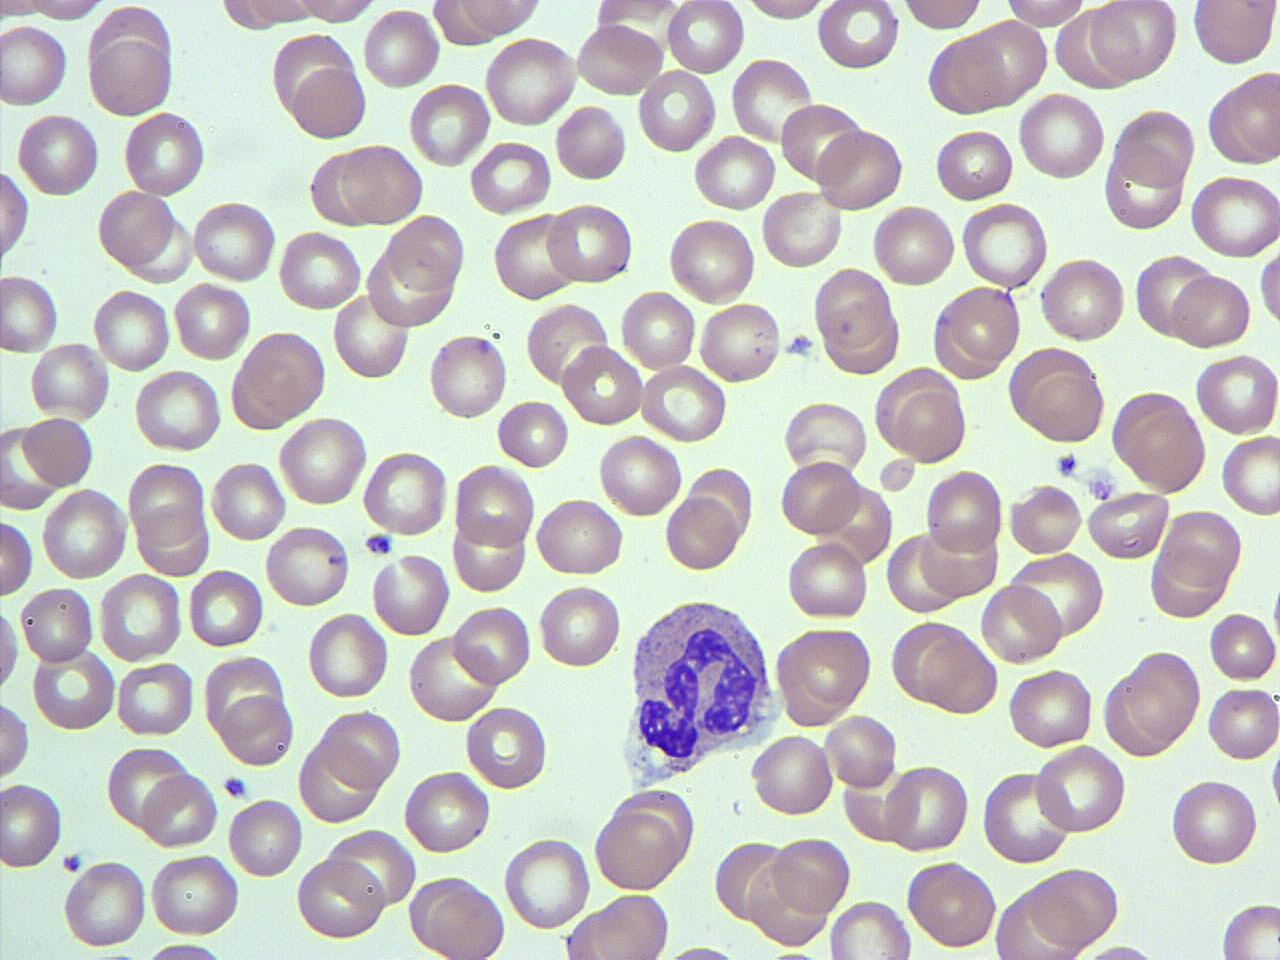Platelets: (783, 331, 818, 358), (363, 530, 395, 558), (1055, 450, 1079, 478), (60, 850, 83, 876)
RBC: (770, 624, 876, 728), (236, 325, 331, 426), (481, 34, 580, 130), (928, 283, 1024, 380), (902, 857, 1001, 951), (276, 412, 371, 509), (1010, 548, 1108, 642), (980, 766, 1072, 866), (1167, 773, 1261, 870), (1033, 742, 1129, 836), (503, 834, 594, 932), (39, 484, 130, 582), (1015, 88, 1107, 183), (293, 853, 388, 944), (406, 632, 498, 724), (960, 198, 1051, 291), (147, 850, 241, 940), (882, 760, 971, 855), (590, 806, 686, 894), (401, 766, 492, 858), (1038, 254, 1130, 345), (1187, 171, 1280, 261), (666, 216, 760, 305), (868, 200, 958, 292), (524, 299, 612, 393), (60, 856, 148, 950), (270, 29, 356, 125), (122, 105, 208, 201), (544, 199, 636, 288), (362, 447, 450, 540), (262, 521, 352, 611), (296, 732, 384, 824), (536, 580, 624, 672), (1028, 864, 1124, 948), (696, 297, 784, 388), (728, 53, 815, 145), (306, 610, 391, 704), (813, 126, 907, 211), (596, 430, 684, 520), (1006, 664, 1096, 752), (132, 366, 222, 454), (750, 730, 837, 821), (15, 108, 101, 200), (427, 329, 510, 424), (97, 572, 184, 662), (1124, 646, 1202, 746), (330, 289, 412, 384), (104, 742, 190, 832), (491, 213, 577, 303), (338, 141, 428, 227), (368, 549, 452, 641), (534, 495, 626, 579), (1101, 144, 1189, 231), (406, 80, 492, 169), (1193, 349, 1279, 438), (464, 702, 550, 790), (978, 579, 1064, 667), (784, 538, 872, 624), (275, 227, 364, 312), (190, 198, 278, 283), (1123, 405, 1207, 494), (453, 460, 536, 550), (417, 878, 508, 960), (923, 465, 1005, 556), (170, 277, 254, 365), (451, 600, 533, 689), (888, 613, 969, 703), (1089, 0, 1179, 81), (30, 646, 115, 731), (640, 362, 728, 444), (637, 66, 718, 155), (92, 285, 172, 375), (562, 341, 644, 428), (87, 36, 175, 117), (572, 20, 662, 99), (225, 792, 304, 882), (1112, 106, 1196, 190), (28, 340, 112, 424), (126, 458, 208, 544), (1134, 251, 1214, 339), (362, 5, 442, 93), (770, 833, 853, 916), (926, 32, 1008, 116), (760, 187, 844, 269), (207, 458, 288, 543), (619, 287, 698, 374), (321, 706, 403, 789), (920, 632, 1000, 717), (187, 564, 266, 650), (18, 581, 97, 667), (467, 137, 555, 214), (690, 134, 778, 211), (781, 398, 870, 474), (712, 835, 787, 925), (1162, 506, 1244, 588), (812, 264, 892, 348), (1170, 271, 1254, 351), (932, 125, 1016, 204), (114, 659, 195, 740), (1148, 538, 1230, 618), (96, 186, 175, 269), (778, 459, 862, 537), (884, 532, 960, 616), (1023, 370, 1107, 446), (1204, 681, 1280, 765), (140, 769, 219, 849), (823, 710, 900, 792), (665, 0, 747, 77), (0, 20, 70, 110), (388, 212, 466, 292), (815, 0, 901, 72), (553, 101, 628, 183), (663, 494, 738, 576), (1085, 489, 1171, 560), (290, 64, 368, 142), (495, 394, 572, 472), (0, 778, 65, 870), (1006, 481, 1084, 557), (305, 145, 377, 227), (1189, 0, 1275, 66), (221, 693, 295, 769), (22, 413, 95, 490), (591, 890, 671, 960), (824, 898, 914, 960), (1218, 430, 1280, 518), (896, 389, 968, 463), (134, 504, 210, 574), (1224, 68, 1280, 163), (1207, 608, 1277, 684), (0, 421, 58, 512), (0, 271, 61, 356), (428, 0, 504, 48), (1218, 902, 1280, 958), (0, 162, 31, 268), (457, 0, 546, 36), (0, 514, 36, 600), (898, 0, 986, 33), (1002, 0, 1090, 30), (0, 695, 31, 780), (0, 592, 22, 702), (293, 0, 384, 26), (738, 0, 831, 24), (1256, 244, 1280, 333), (134, 940, 238, 960), (245, 0, 319, 27)
WBC: (614, 592, 780, 790)
